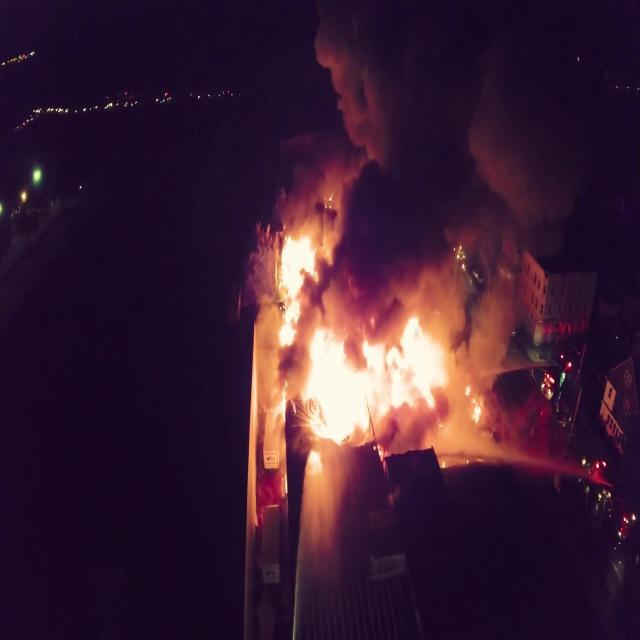Fire: (270, 222, 456, 486)
Smoke: (274, 0, 588, 445)
